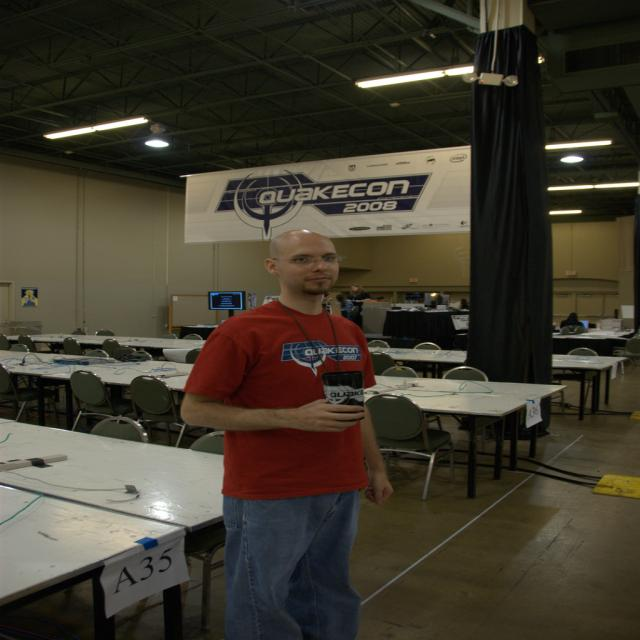chair: (365, 396, 459, 502), (128, 376, 206, 448), (68, 371, 136, 433), (0, 364, 57, 426), (90, 416, 148, 444), (102, 338, 142, 361), (189, 432, 225, 454), (441, 366, 487, 382), (378, 365, 418, 379), (370, 352, 395, 374)
desk: (0, 414, 228, 634)
person: (179, 224, 392, 639)
tv: (208, 290, 246, 310)
